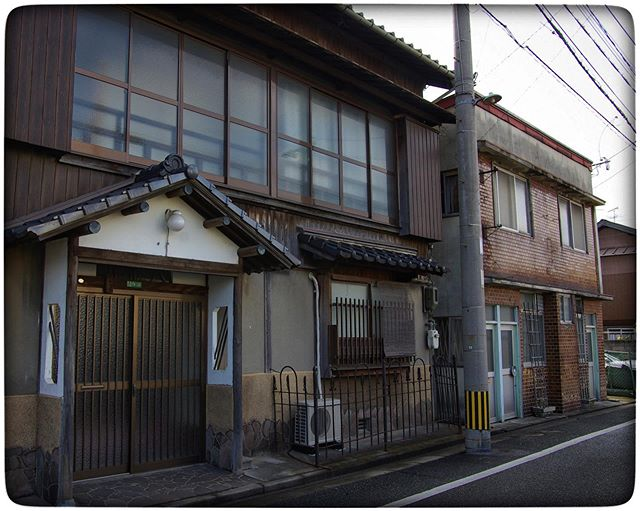building: (1, 1, 440, 449), (446, 96, 615, 431)
door: (71, 291, 209, 492), (480, 323, 514, 428)
